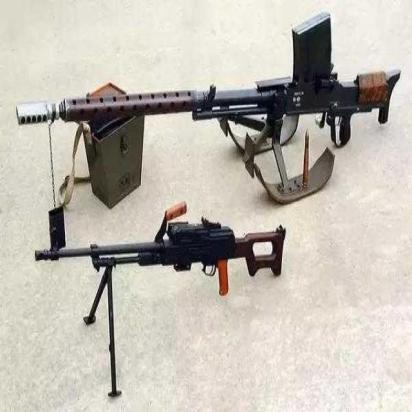Gun: (16, 9, 403, 145), (31, 196, 288, 298)
